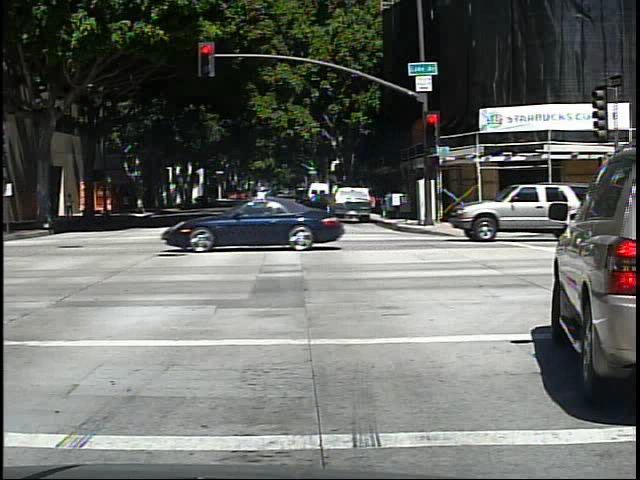person: (64, 191, 77, 221)
